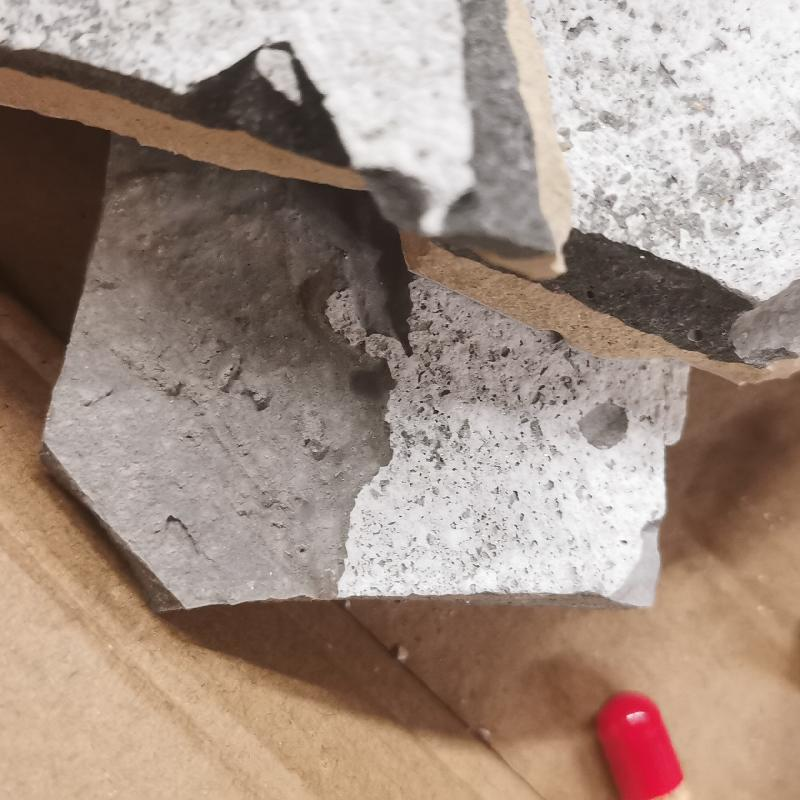tile: (4, 6, 799, 618)
